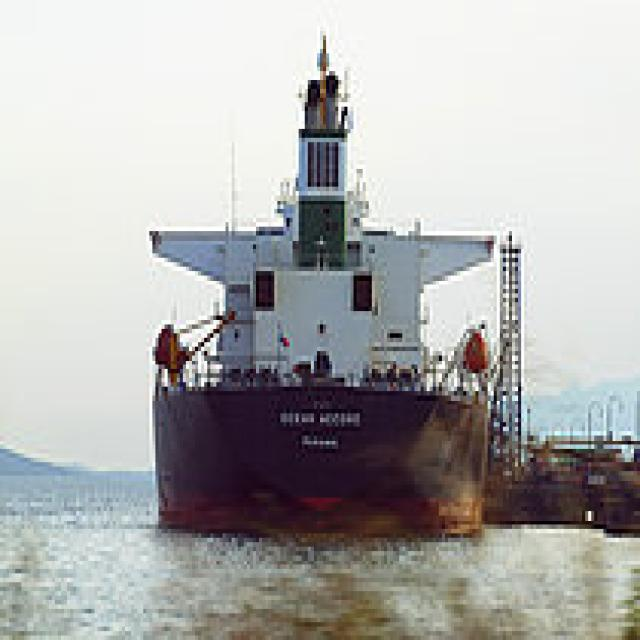Tanker: (146, 26, 494, 538)
